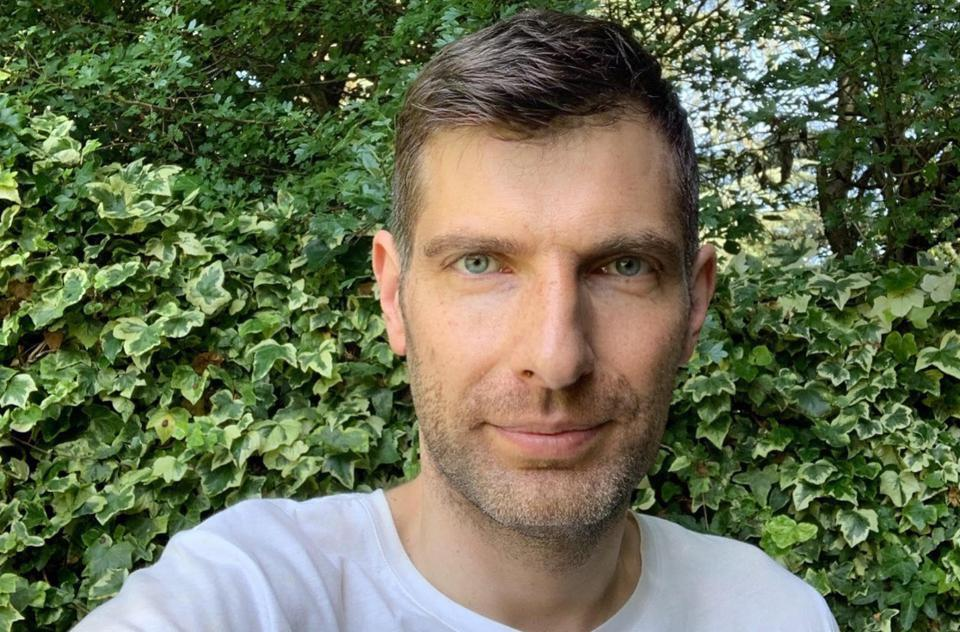Sober: (409, 126, 665, 517)
